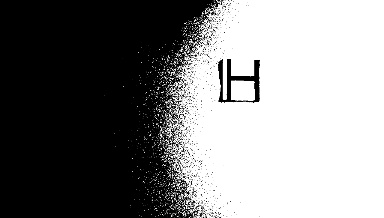H: (223, 57, 264, 99)
